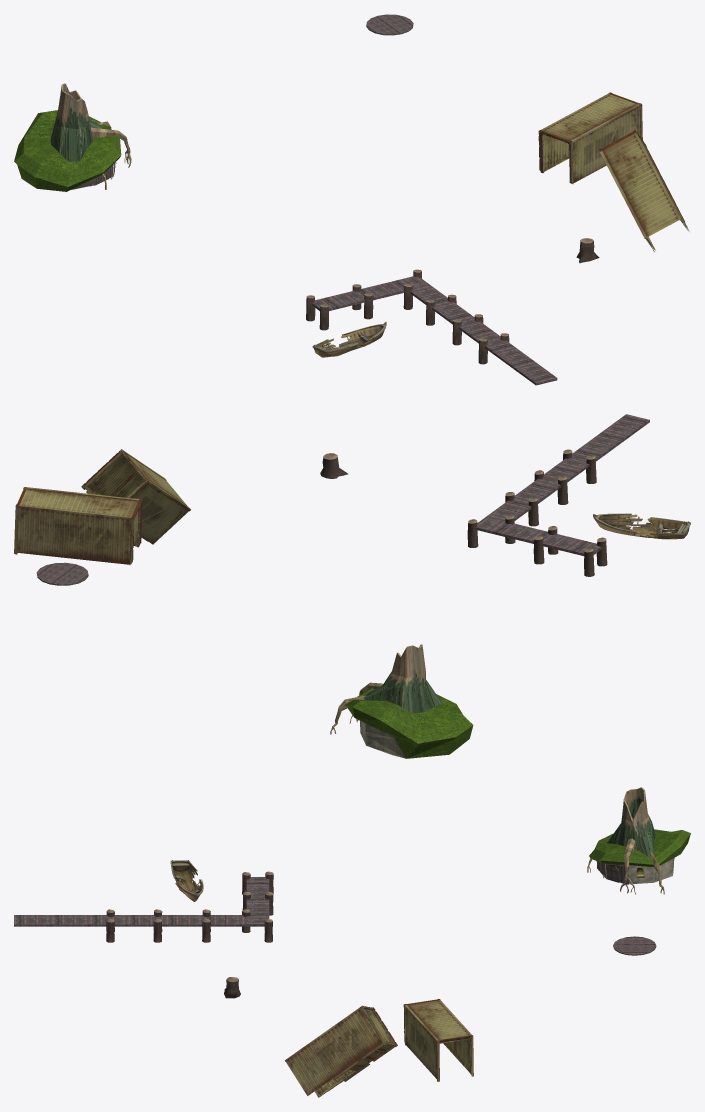
Rendered from map.obj.
3 views of the same model, one above another, from view 1: azimuth 30°, elevation 25°; view 2: azimuth 150°, elevation 25°; view 3: azimuth 270°, elevation 25° (orthographic). The views are drawn at different scales.
Parts seen in each view (by area): view 1: Containers, ShrekHouse, Dock, Stump, Boat, Circle; view 2: Containers, ShrekHouse, Dock, Stump, Boat, Circle; view 3: Containers, ShrekHouse, Dock, Stump, Boat, Circle.
Part boxes in pixels (x1,y1,x2,y2): Containers: (538, 92, 689, 252); ShrekHouse: (14, 83, 131, 191); Dock: (311, 276, 557, 385); Stump: (306, 238, 599, 364); Boat: (312, 322, 386, 357); Circle: (366, 14, 413, 35); Containers: (14, 449, 190, 565); ShrekHouse: (330, 644, 473, 758); Dock: (476, 414, 649, 555); Stump: (320, 449, 607, 576); Boat: (593, 513, 690, 539); Circle: (36, 562, 88, 585); Containers: (285, 999, 473, 1097); ShrekHouse: (587, 787, 690, 894); Dock: (14, 877, 269, 926); Stump: (106, 871, 273, 998); Boat: (170, 860, 203, 901); Circle: (613, 936, 656, 955).
Bounding box in the file's own units: 47.72 × 12.38 × 59.98.
9 materials, 9 textured.
